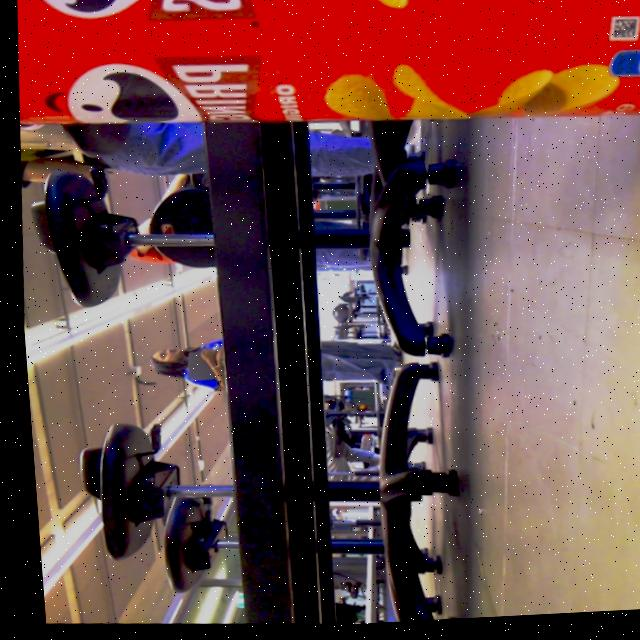redpringles: (11, 0, 640, 160)
